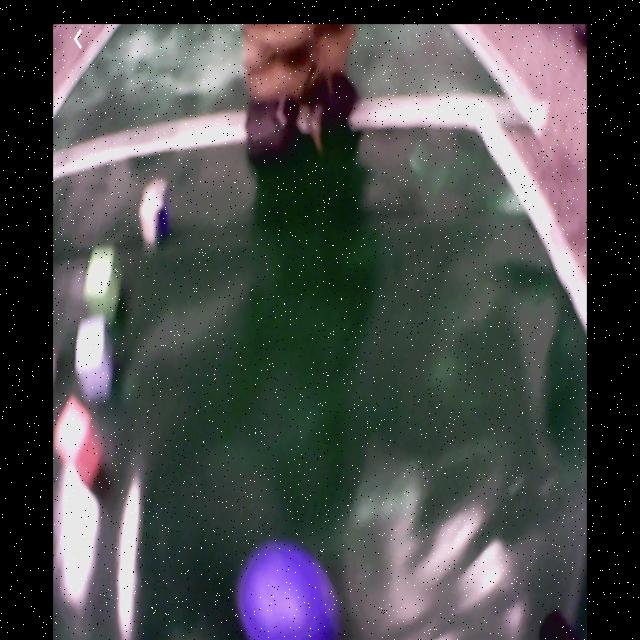ball: (243, 549, 316, 640)
